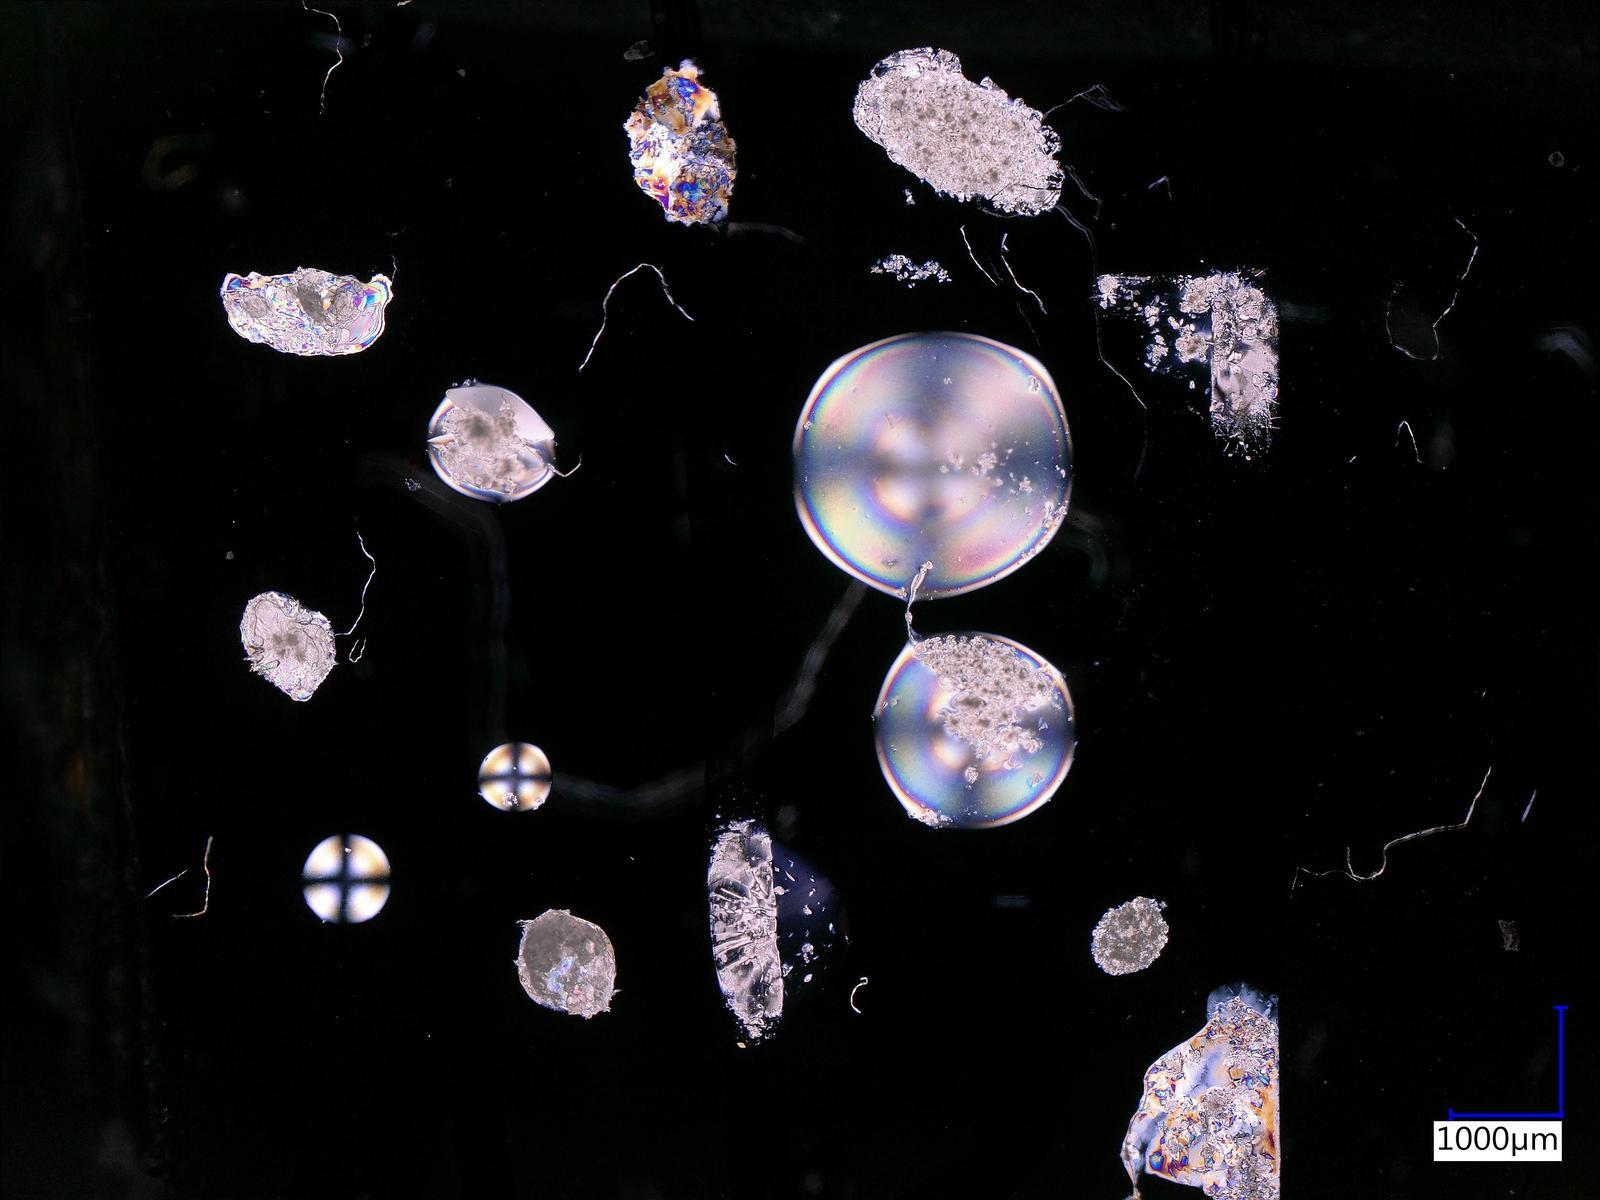sediment: (850, 47, 1060, 213), (915, 642, 1042, 758), (222, 270, 392, 355), (241, 592, 334, 702), (517, 913, 614, 1013), (1090, 895, 1168, 977), (445, 410, 522, 483)
